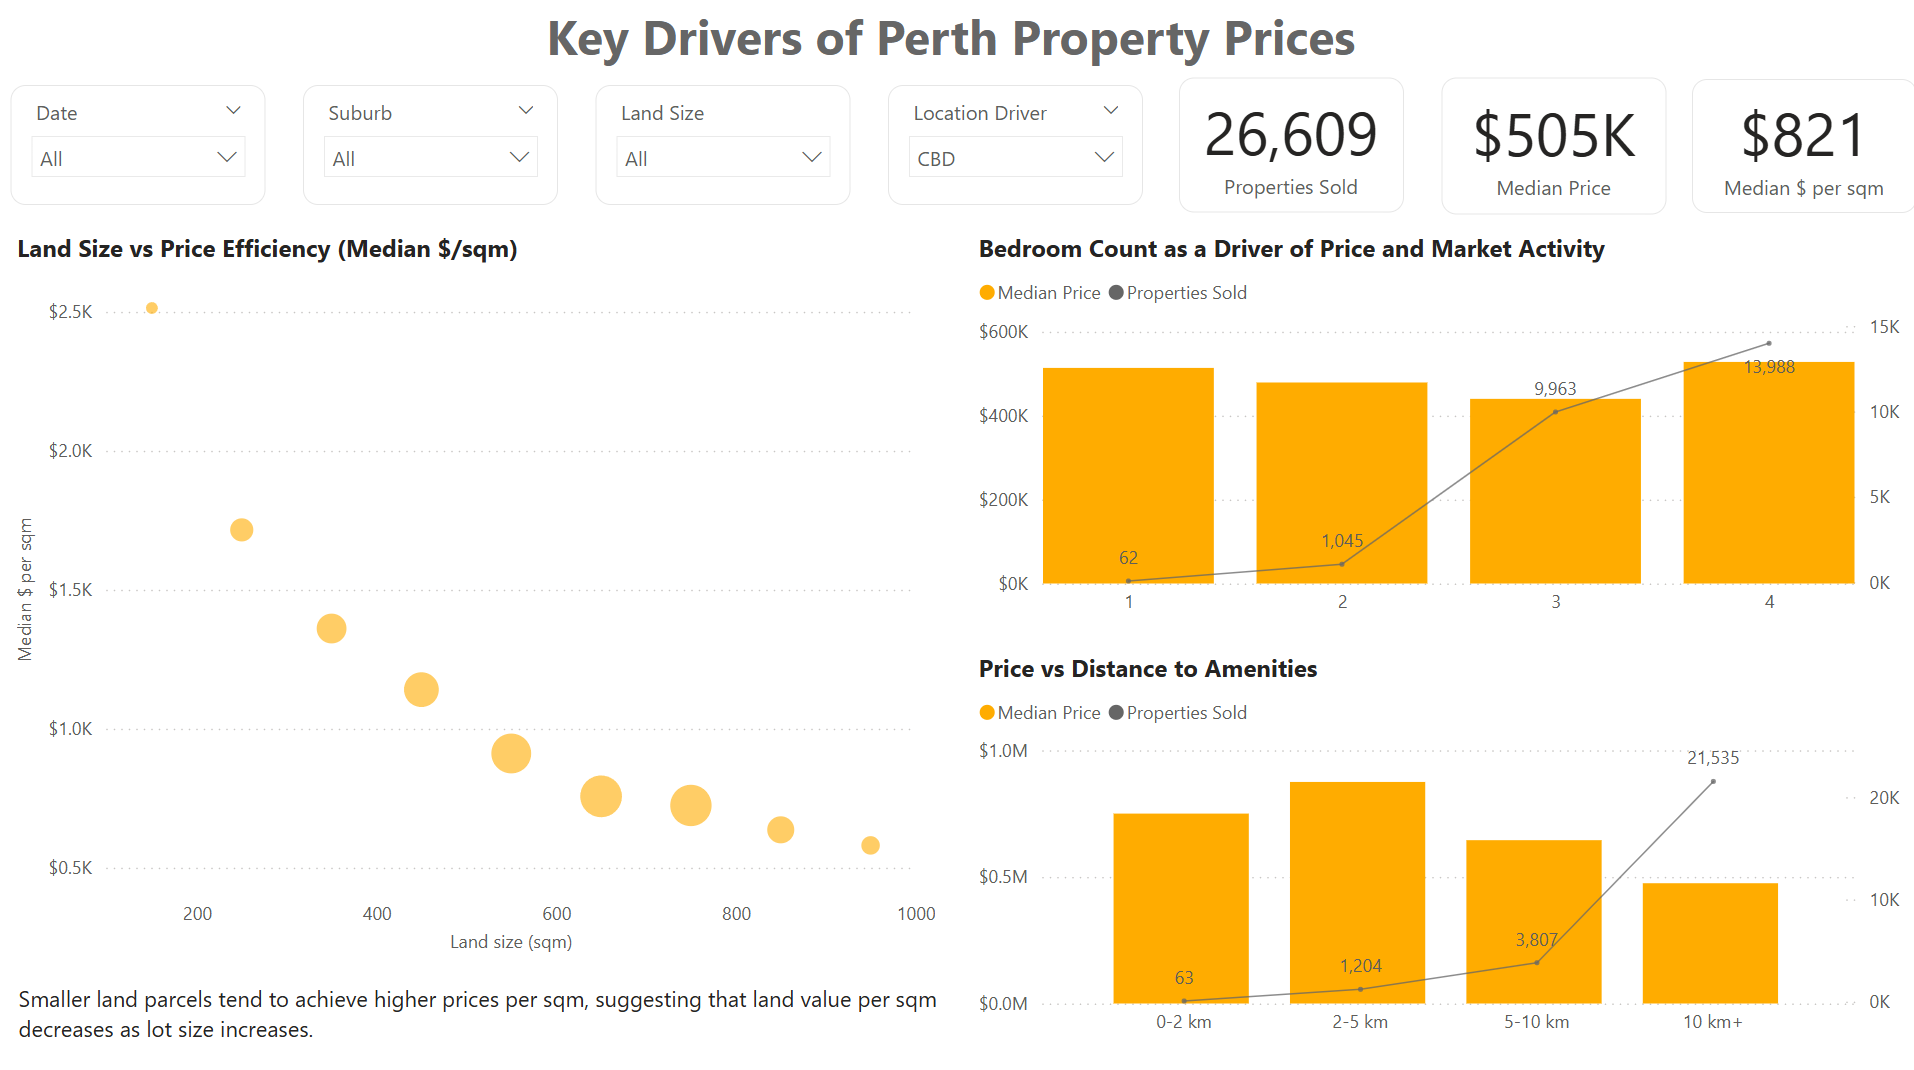

Layout of this report page (visuals, bound fields, positions):
{"tool":"powerbi","page":{"name":"Drivers of Property Prices","canvas":[1280,720],"ordinal":3},"visuals":[{"type":"textbox","box":[0,0,1280.4,56.8],"z":0},{"type":"slicer","fields":{"Values":["dim_date (2).Year","dim_date (2).MonthName"]},"box":[8.7,60.2,170,80],"z":2000,"group":"g1"},{"type":"scatterChart","title":"Land Size vs Price Efficiency (Median $/sqm)","fields":{"Size":["My Measures.Properties Sold"],"X":["dim_properties.LandAreaBinMid100"],"Y":["My Measures.Price per sqm"]},"box":[7.7,157.1,622.7,485.8],"z":3000},{"type":"slicer","fields":{"Values":["dim_location.Suburb"]},"box":[203.6,60.2,170,80],"z":4000,"group":"g1"},{"type":"lineClusteredColumnComboChart","title":"Price vs Distance to Amenities","fields":{"Category":["dim_properties.CbdDistanceCategory"],"Y":["My Measures.Median Price"],"Y2":["My Measures.Properties Sold"]},"box":[648.7,436.6,624.6,265.1],"z":5000},{"type":"card","fields":{"Values":["My Measures.Properties Sold (Card)"]},"box":[788.1,55.2,150,90],"z":6000,"group":"g1"},{"type":"card","fields":{"Values":["My Measures.Median Price"]},"box":[963,54.9,150,90.5],"z":7000,"group":"g1"},{"type":"textbox","box":[9.2,653.4,629.3,56.2],"z":8000},{"type":"slicer","fields":{"Values":["dim_properties.LandAreaCategory"]},"box":[398.4,60.2,170,80],"z":9000,"group":"g1"},{"type":"lineClusteredColumnComboChart","title":"Bedroom Count as a Driver of Price and Market Activity","fields":{"Category":["dim_properties.Bedrooms"],"Y":["My Measures.Median Price"],"Y2":["My Measures.Properties Sold"]},"box":[648.7,157.1,624.6,265.1],"z":10000},{"type":"slicer","fields":{"Values":["Distance Metric.Distance Metric"]},"box":[593.3,60.2,170,80],"z":11000,"group":"g1"},{"type":"card","fields":{"Values":["My Measures.Median $ per sqm (Card)"]},"box":[1130,55.4,150,89.5],"z":12000,"group":"g1"},{"type":"group","id":"g1","title":"Group 1","box":[8.7,54.9,1271.3,90.5],"z":12001}]}

Visuals, with their boxes in screenshot pixels (x1, y1, x2, y2), scaled from the page's 1280x720 canvas onto the 1914x1070 screenshot:
textbox: x1=0, y1=0, x2=1913, y2=84
slicer - dim_date (2).Year x dim_date (2).MonthName: x1=13, y1=89, x2=267, y2=208
"Land Size vs Price Efficiency (Median $/sqm)" scatterChart: x1=12, y1=233, x2=943, y2=955
slicer - dim_location.Suburb: x1=304, y1=89, x2=559, y2=208
"Price vs Distance to Amenities" lineClusteredColumnComboChart: x1=970, y1=649, x2=1904, y2=1043
card - My Measures.Properties Sold (Card): x1=1178, y1=82, x2=1403, y2=216
card - My Measures.Median Price: x1=1440, y1=82, x2=1664, y2=216
textbox: x1=14, y1=971, x2=955, y2=1055
slicer - dim_properties.LandAreaCategory: x1=596, y1=89, x2=850, y2=208
"Bedroom Count as a Driver of Price and Market Activity" lineClusteredColumnComboChart: x1=970, y1=233, x2=1904, y2=627
slicer - Distance Metric.Distance Metric: x1=887, y1=89, x2=1141, y2=208
card - My Measures.Median $ per sqm (Card): x1=1690, y1=82, x2=1913, y2=215
"Group 1" group: x1=13, y1=82, x2=1913, y2=216
